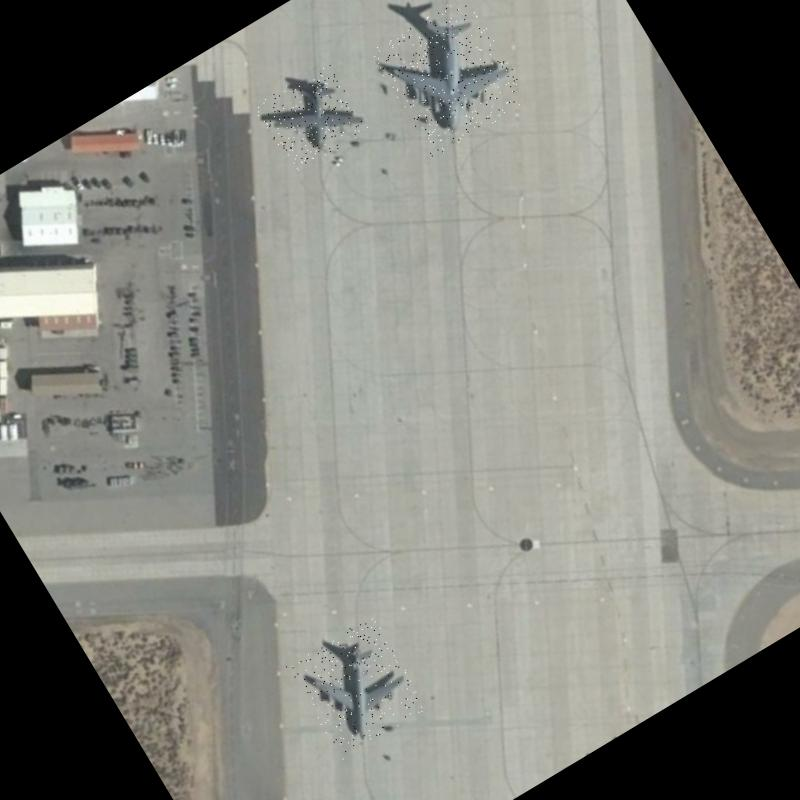A14: (286, 614, 428, 759)
A2: (252, 60, 369, 174)
A3: (369, 0, 531, 158)
